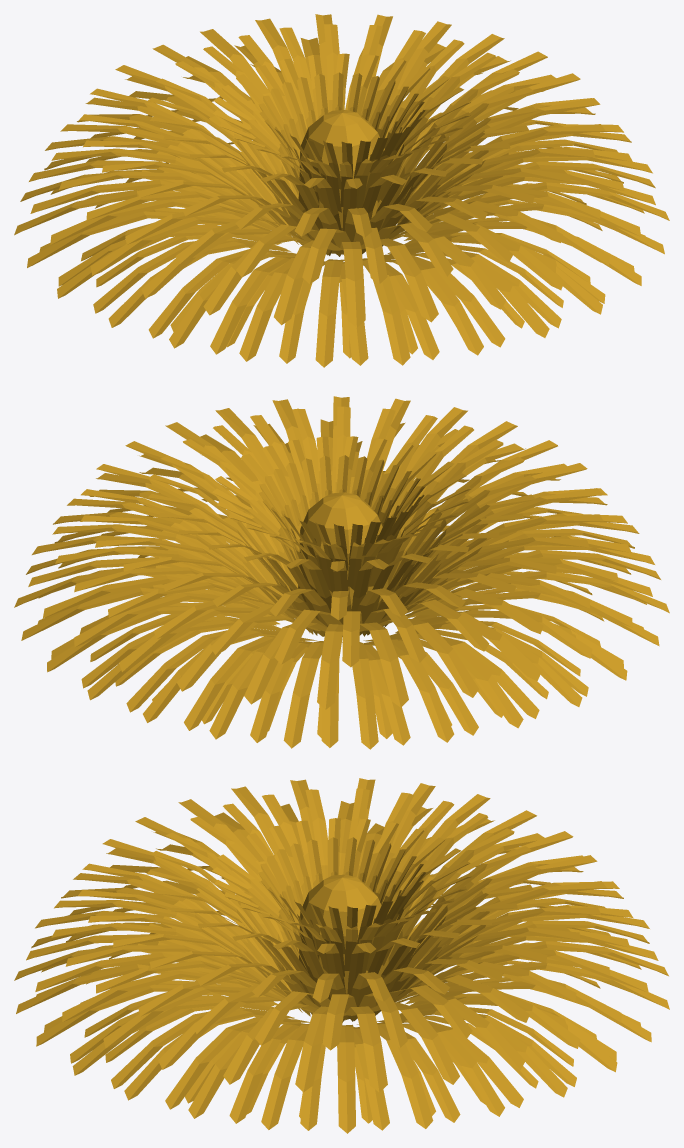
File: dandelion_bud.glb
3 views of the same model, one above another, from view 1: azimuth 30°, elevation 25°; view 2: azimuth 150°, elevation 25°; view 3: azimuth 270°, elevation 25° (orthographic).
Visible parts, largest first — view 1: dandelion_bud; view 2: dandelion_bud; view 3: dandelion_bud.
Part boxes in pixels (box(x1,y1,x2,y2)): dandelion_bud: box(14, 14, 669, 367); dandelion_bud: box(14, 396, 669, 749); dandelion_bud: box(14, 778, 669, 1133).
Size of the model in its own units: 1.31 by 0.3285 by 1.31.
